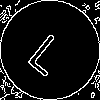L: (25, 25, 76, 78)
